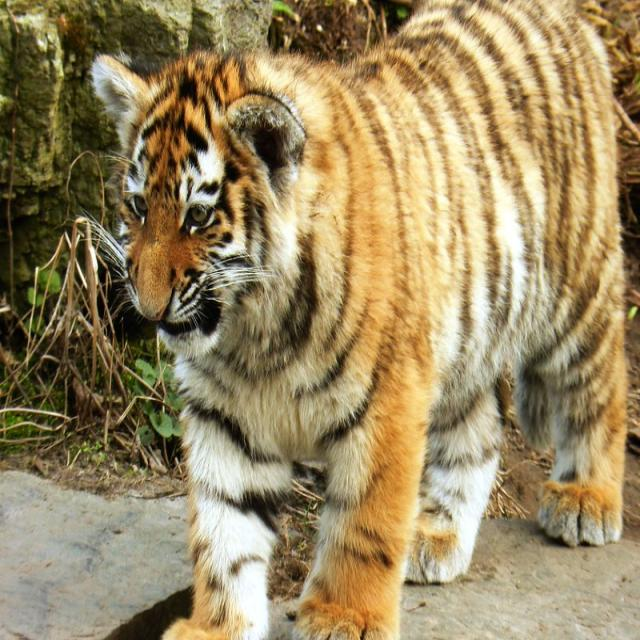Tiger: (79, 18, 634, 636)
